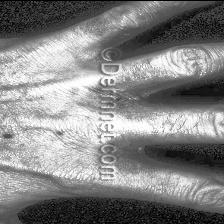Toxin: (111, 84, 137, 108), (53, 130, 66, 138)
